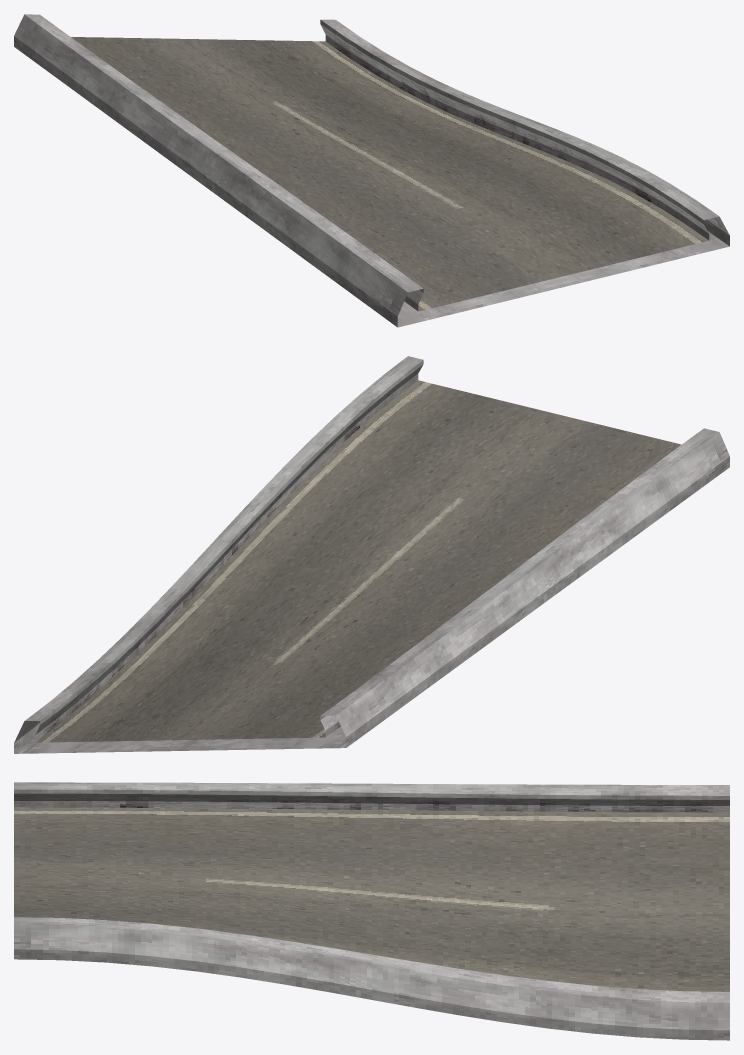
The model's file is straight2.glb.
3 renders of one model, top to bottom at view 1: azimuth 30°, elevation 25°; view 2: azimuth 150°, elevation 25°; view 3: azimuth 270°, elevation 25°, orthographic. The views are drawn at different scales.
Parts seen in each view (by area): view 1: road-Straight-Flat-HalfBankedRight-Down1-Center-Size2; view 2: road-Straight-Flat-HalfBankedRight-Down1-Center-Size2; view 3: road-Straight-Flat-HalfBankedRight-Down1-Center-Size2.
Boxes of the visible parts, x1,y1,x2,y2 form: road-Straight-Flat-HalfBankedRight-Down1-Center-Size2: (14, 14, 729, 327); road-Straight-Flat-HalfBankedRight-Down1-Center-Size2: (14, 356, 729, 753); road-Straight-Flat-HalfBankedRight-Down1-Center-Size2: (14, 782, 729, 1040).
Bounding box in the file's own units: 1 × 0.3438 × 2.
Materials: 2 (2 with a texture image).
